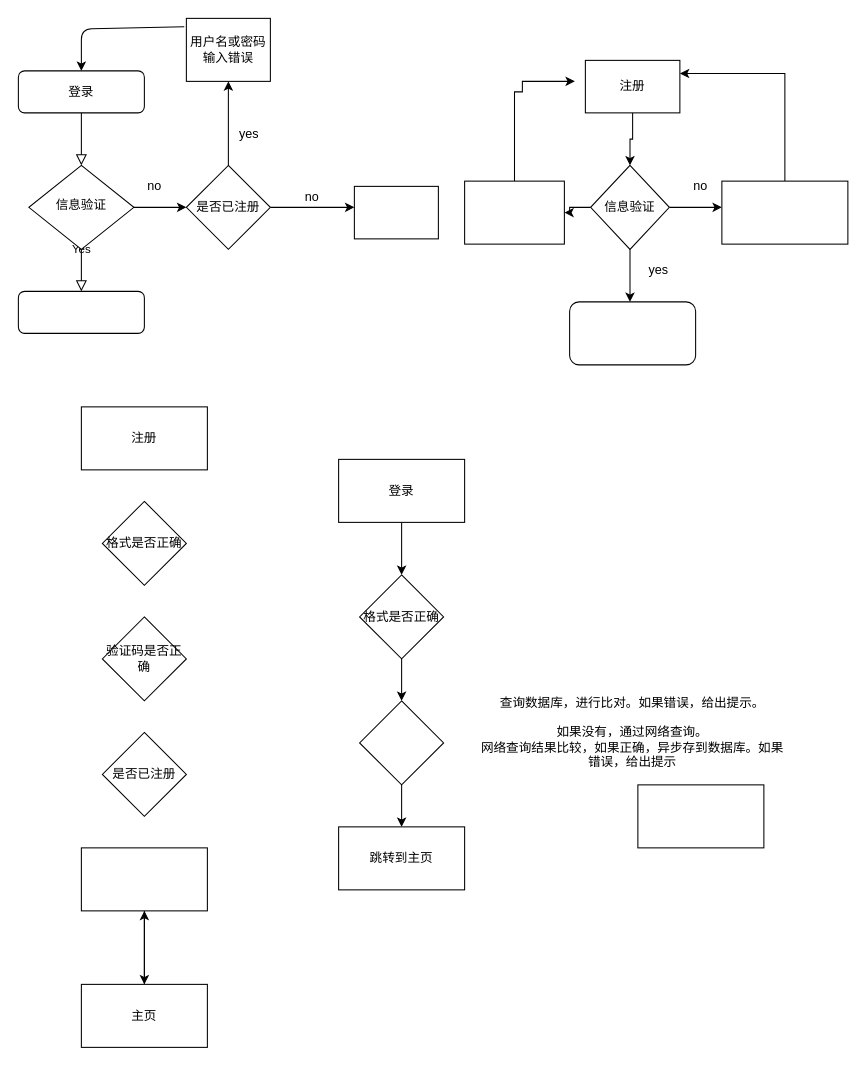
Image size: 866x1066. Some labels were removed from this diagram. Here are the shapes that lost their labels. From the top down, the centre of each, then its label:
the point at 395,212: 该账号还未注册
the point at 514,212: 该账号已注册
the point at 784,212: 信息错误，请重新输入
the point at 80,311: 转到主页面
the point at 632,333: 注册成功，跳转到主页
the point at 401,742: 账号密码是否正确
the point at 143,879: 密码输入与确认
